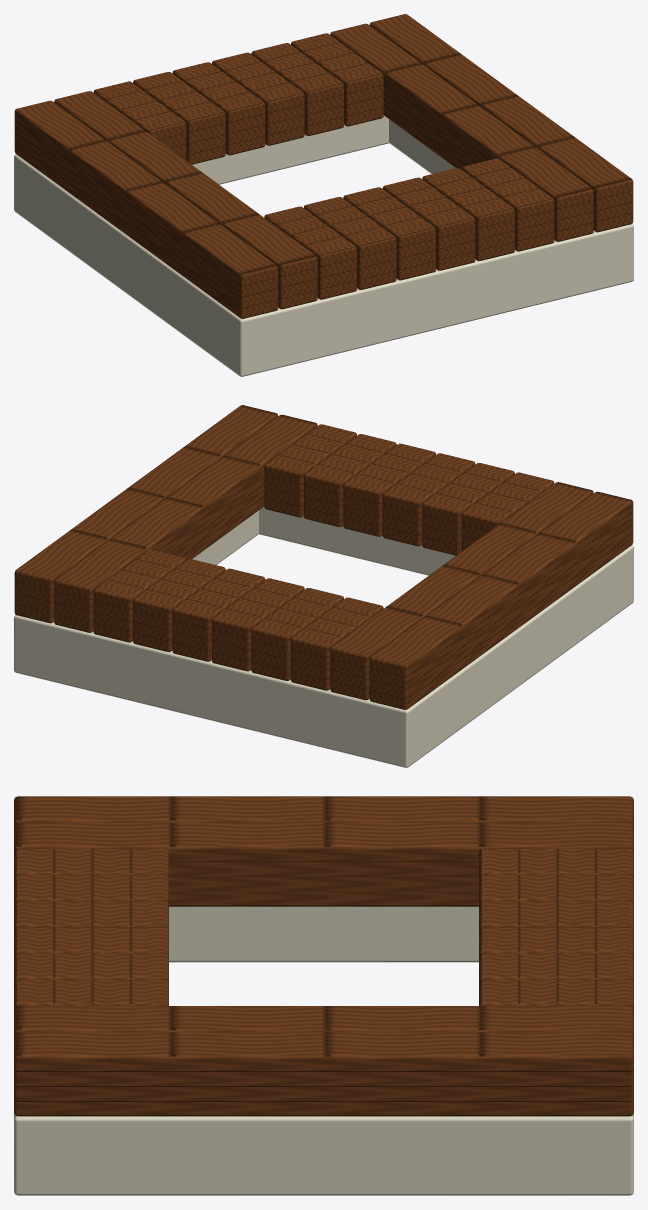
Rendered from rural-scavenging-settlements-cellar-access-floor-d583965d__26506.glb.
The picture shows the model from 3 angles, top to bottom: view 1: azimuth 30°, elevation 25°; view 2: azimuth 150°, elevation 25°; view 3: azimuth 270°, elevation 25°; orthographic projection. The views are drawn at different scales.
Parts seen in each view (by area): view 1: cellar-access-floor; view 2: cellar-access-floor; view 3: cellar-access-floor.
Boxes of the visible parts, <box> form: cellar-access-floor: <box>14,14,633,376</box>; cellar-access-floor: <box>14,405,633,767</box>; cellar-access-floor: <box>14,796,633,1195</box>.
Size of the model in its own units: 2 by 0.5 by 2.
2 materials, 1 textured.
